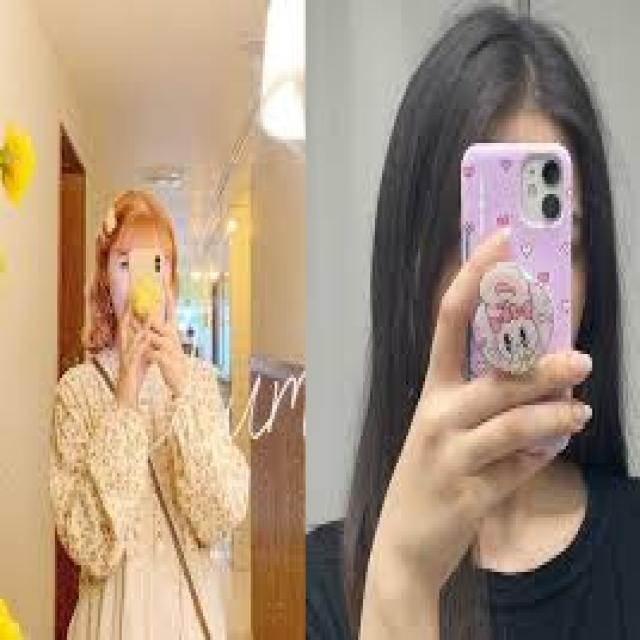Phone: (460, 142, 575, 448), (126, 252, 168, 317)
